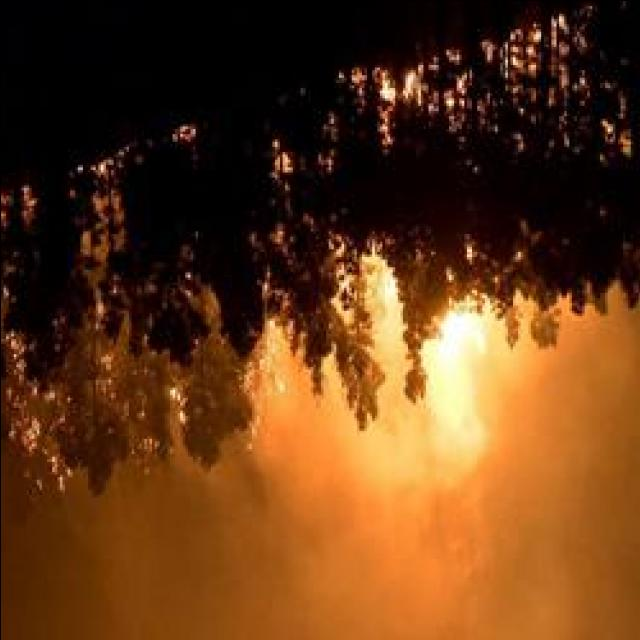fire: (435, 306, 488, 368)
smoke: (259, 432, 587, 640), (1, 521, 276, 638), (428, 374, 491, 506)
